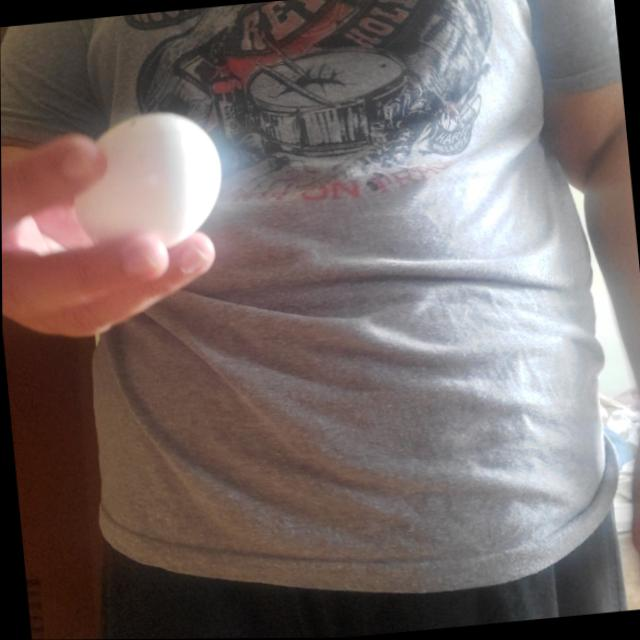egg: (68, 106, 227, 259)
